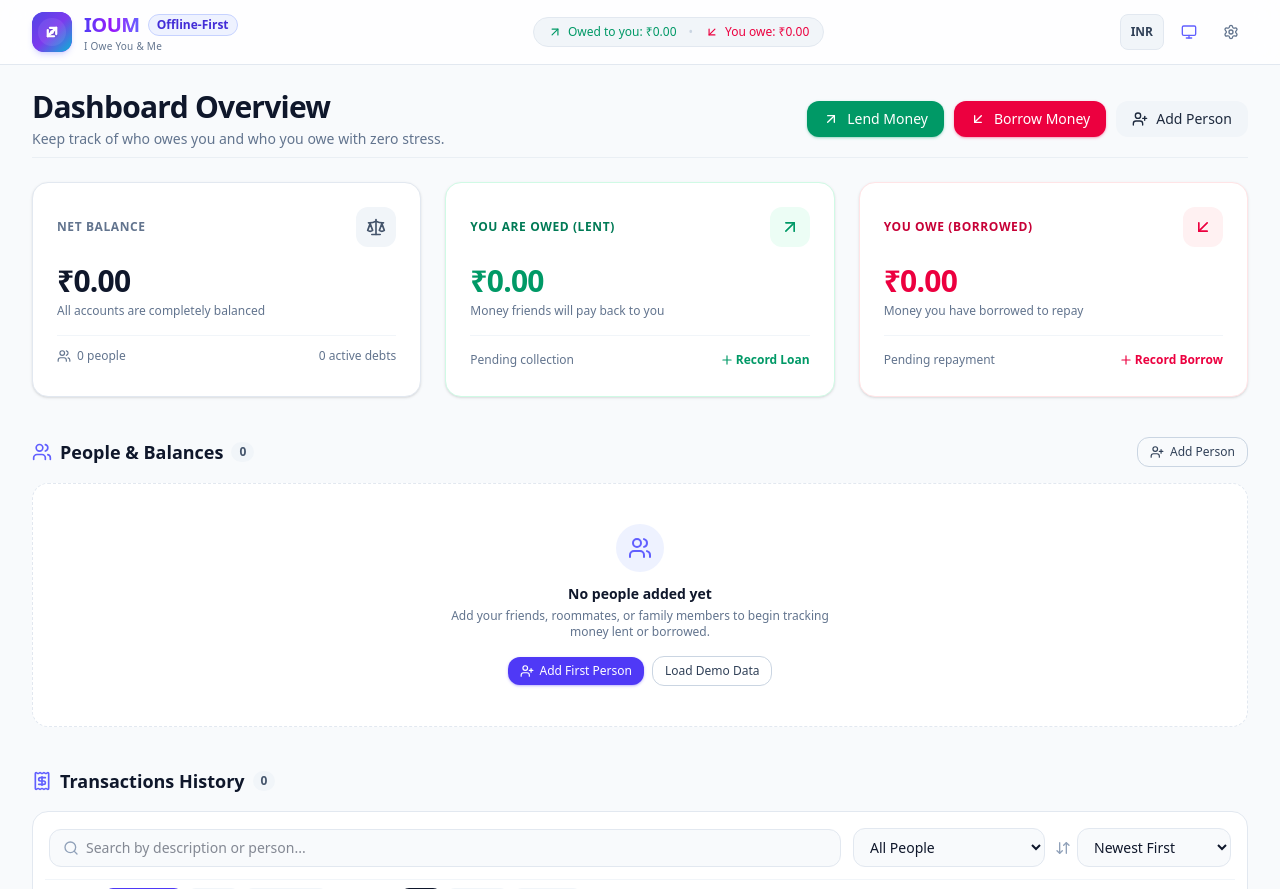
App End-to-End User Flow › allows recording a loan on fresh state without adding person first
Expected: the heading "Dashboard Overview" is shown, [32, 86, 330, 127]
Click the button "Lend Money" at (876, 119), box [807, 101, 944, 137]
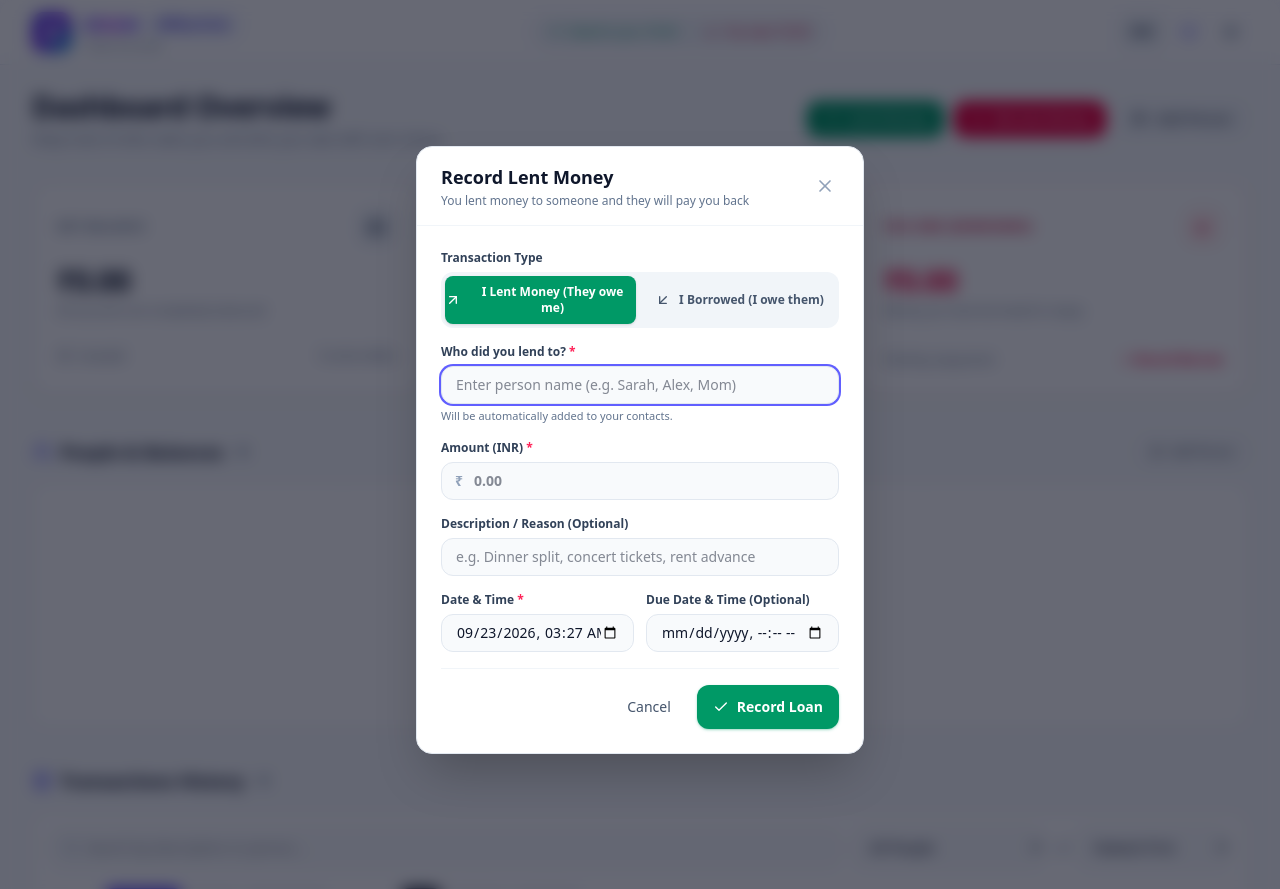
Now the heading "Record Lent Money" is shown, box [441, 165, 613, 189]
Now the field with placeholder "Enter person name (e.g. Sarah, Alex, Mom)" is shown
Type "Alice Smith" into the field with placeholder "Enter person name (e.g. Sarah, Alex, Mom)" at (640, 385), box [441, 366, 839, 404]
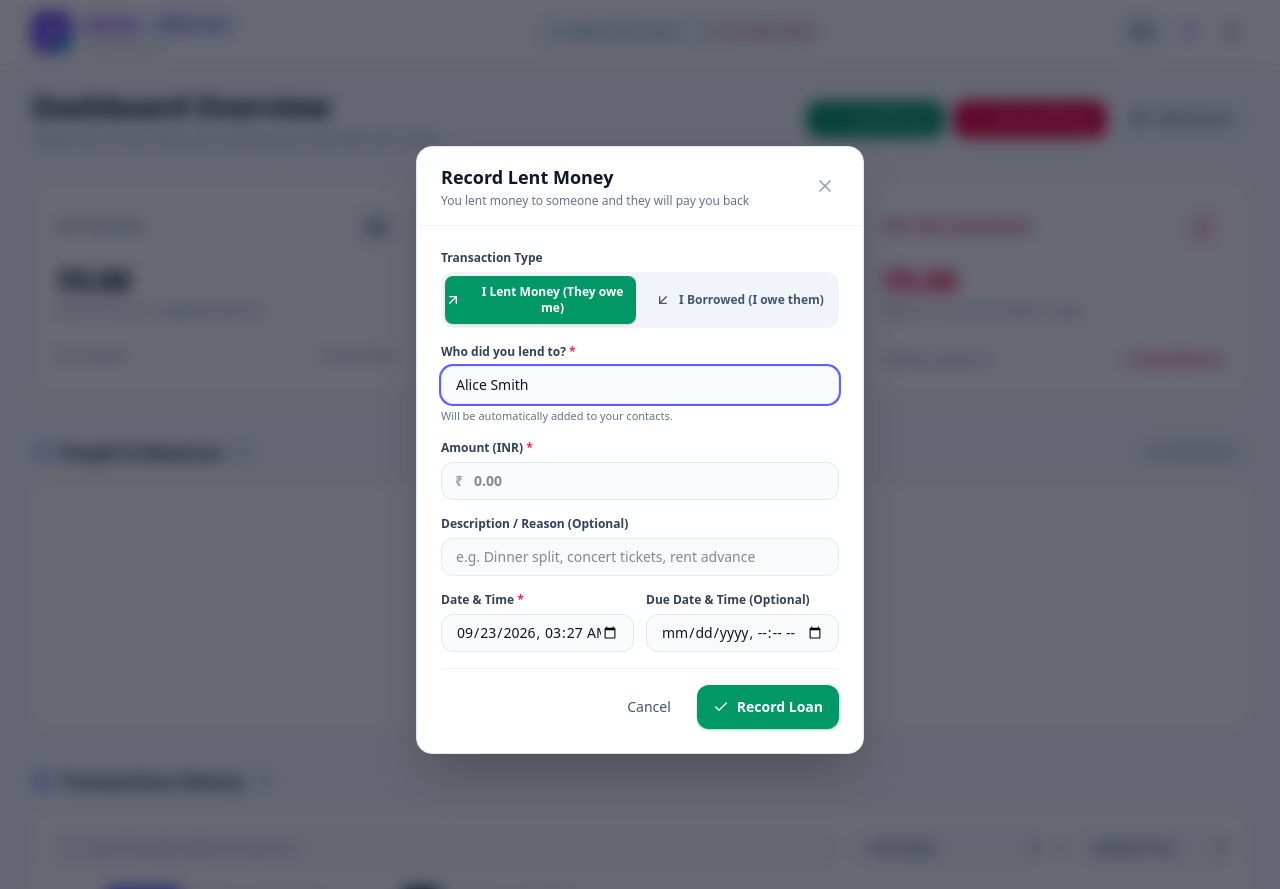
Type "50" into the number field with placeholder "0.00" at (640, 481), box [441, 462, 839, 500]
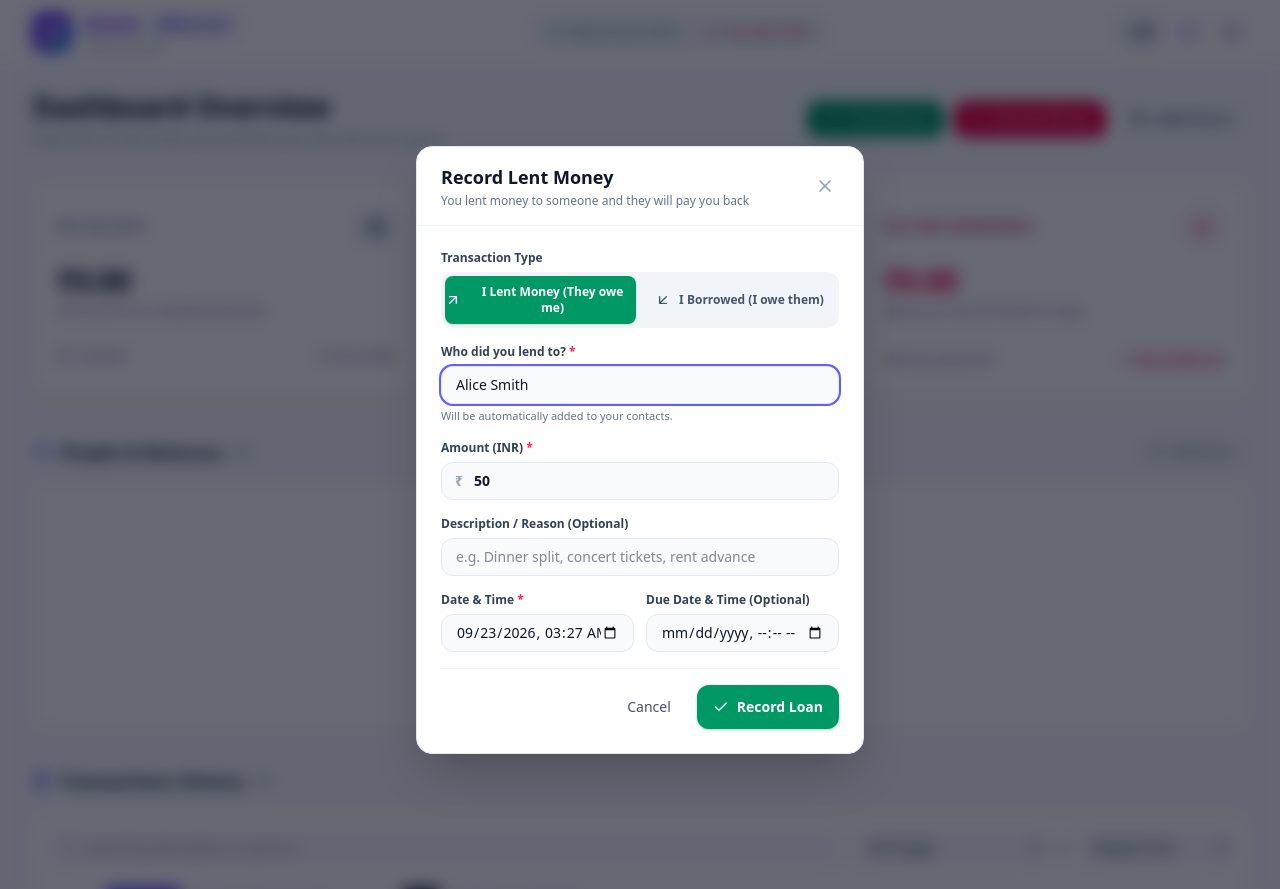
Type "Sushi night" into the field with placeholder "e.g. Dinner split, concert tickets, rent advance" at (640, 557), box [441, 538, 839, 576]
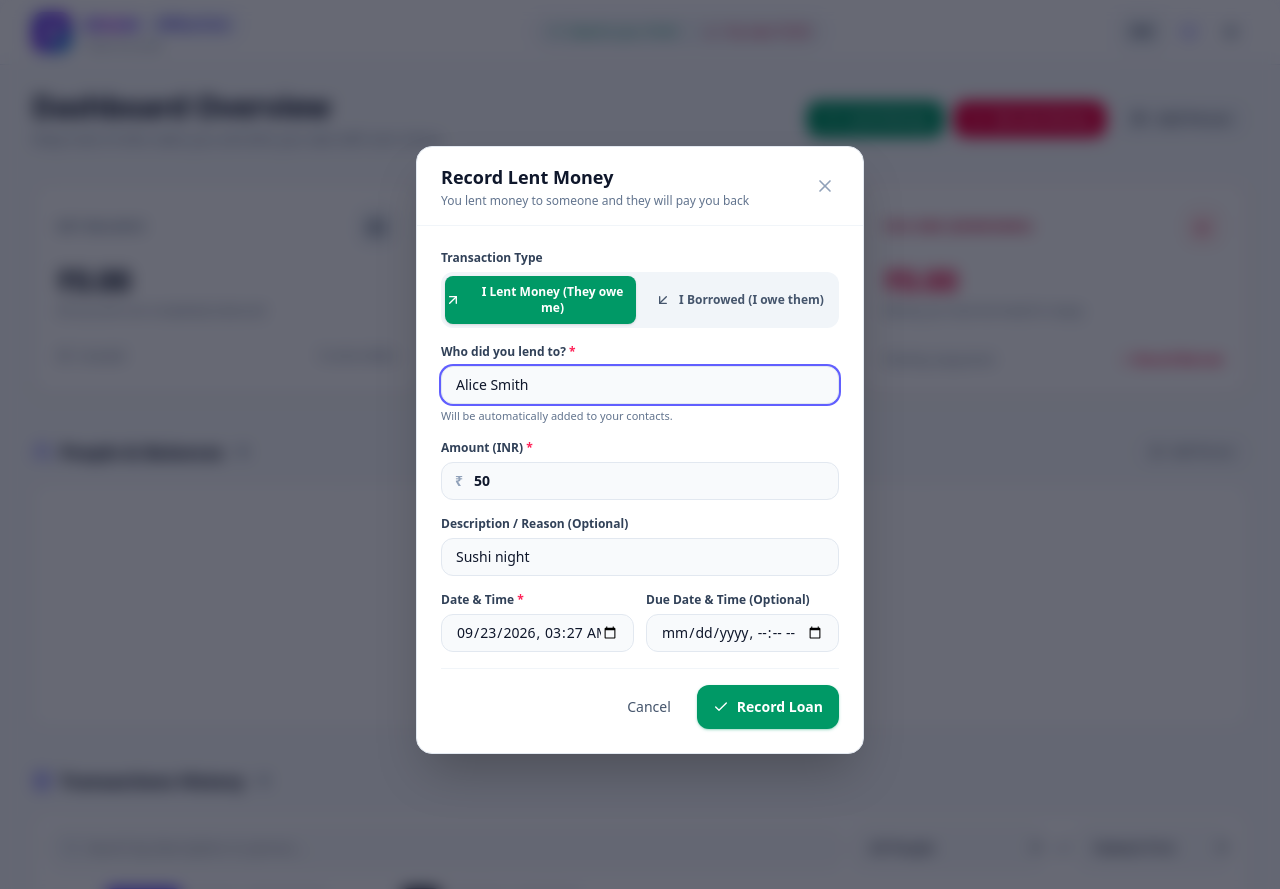
Now the submit button is shown
Click the submit button at (768, 707), box [697, 685, 839, 729]
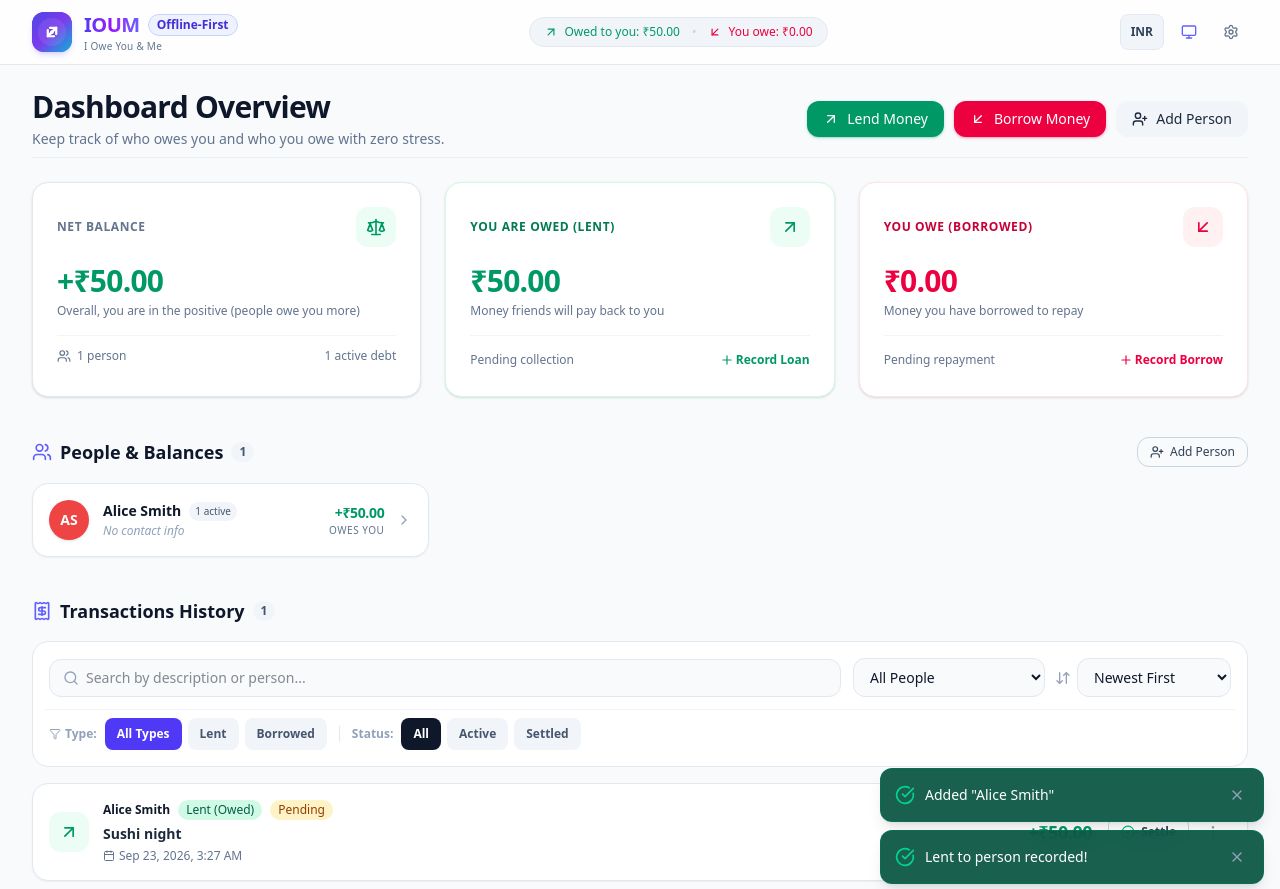
Now the heading "Sushi night" is shown, box [103, 824, 182, 843]
Now the text "Owed to you: ₹50.00" is shown, box [564, 24, 680, 40]
Click the button "Lend Money" at (876, 119), box [807, 101, 944, 137]
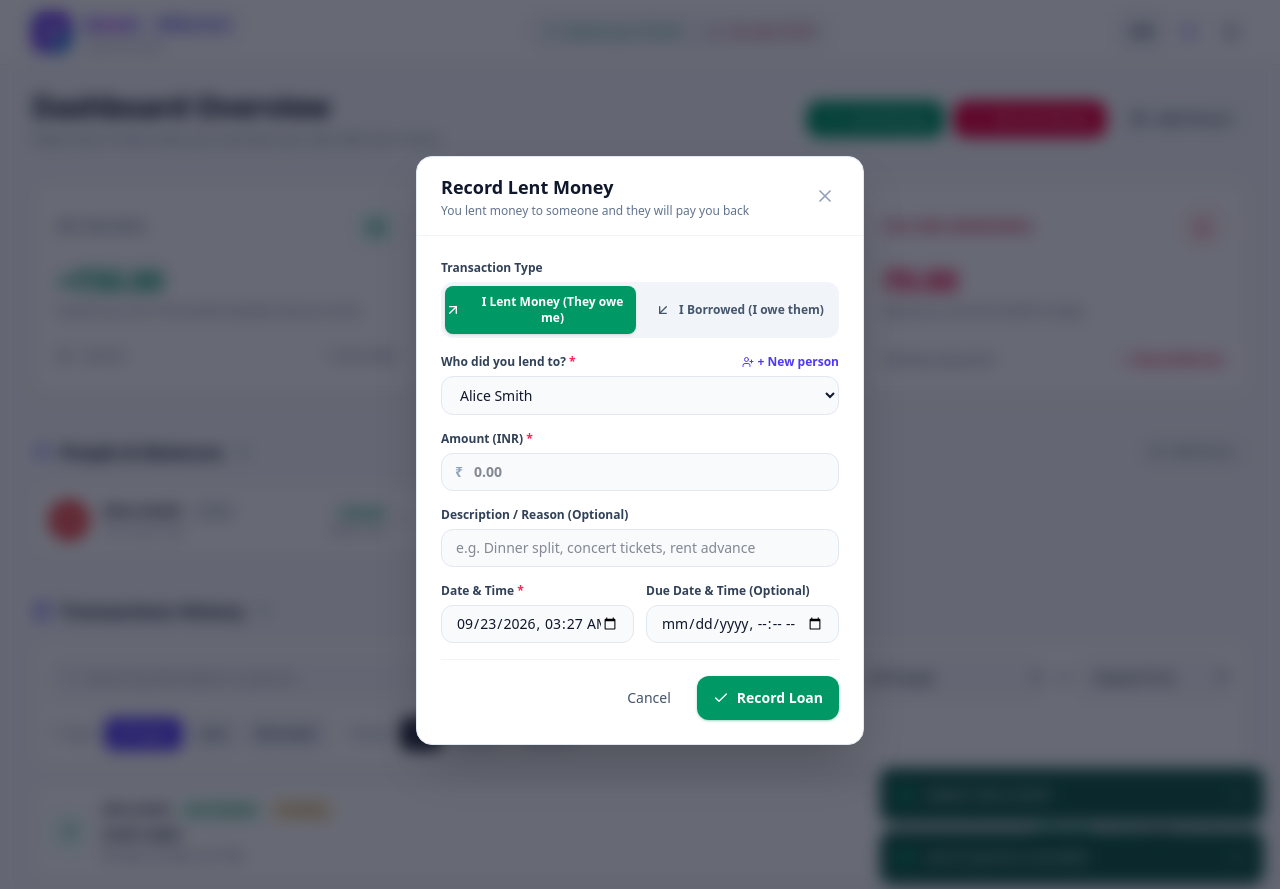
Expected: the 2nd dropdown is shown, [853, 658, 1045, 697]
Now the heading "Record Lent Money" is shown, box [441, 174, 613, 198]
